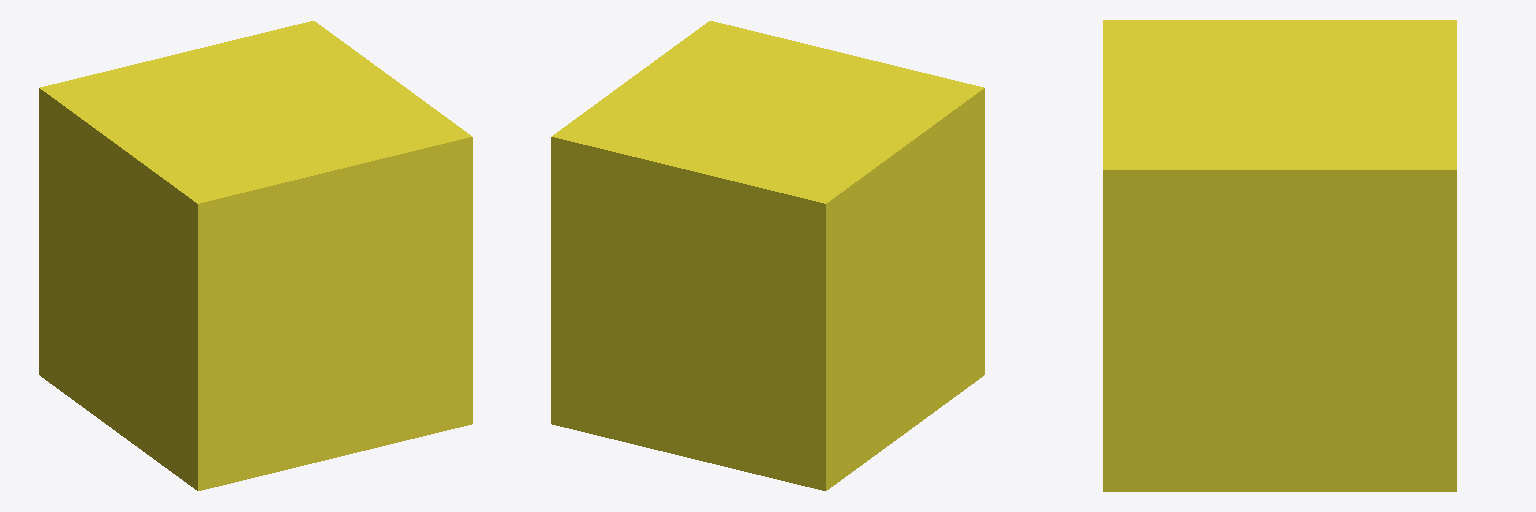
robot.urdf — liukuhihna_gazebo:
<?xml version="1.0" encoding="utf-8"?>
<!-- This URDF was automatically created by SolidWorks to URDF Exporter! Originally created by [author] ([email redacted]) 
     Commit Version: 1.5.1-0-g916b5db  Build Version: 1.5.7152.31018
     For more information, please see http://wiki.ros.org/sw_urdf_exporter -->
<robot name="liukuhihna_gazebo">

	<link name="world" />

	<joint name="fixed" type="fixed">
		<parent link="world"/>
		<child link="belt_visual"/>
		<origin xyz="0.0 0.0 0.0" rpy="0.0 0.0 0"/>
	</joint>
	

	<link name="belt_visual">
		<inertial>
			<origin xyz="1.1327E-16 -3.3286E-17 0.66019" rpy="0 0 0" />
			<mass value="71.953" />
			<inertia ixx="7.5972" ixy="-1.394E-14" ixz="1.9328E-17" iyy="0.99673" iyz="-9.2056E-18" izz="8.1168" />
		</inertial>
		<visual>
			<origin xyz="0 0 0" rpy="0 0 0" />
			<geometry>
				<mesh filename="package://demo_world/meshes/conveyor_belt.stl" scale="1 2 1"/>
			</geometry>
			<material name="white">
				<color rgba="1 1 1 1" />
			</material>
		</visual>
		<collision>
			<origin xyz="0.0 0.0 0" rpy="1.570796327 0.0 1.570796327"/>
			<geometry>
				<mesh filename="package://demo_world/meshes/conveyor_simple.stl" scale="1 2 1" />
			</geometry>
		</collision>
	</link>

	<gazebo reference="belt_visual">
		<material>Gazebo/Gray</material>
	</gazebo>


	<!-- <link name="test_cube">
		<visual>
			<origin xyz="0.0 0.0 0.37" rpy="0.0 0.0 0.0"/>
			<geometry>
				<box size="0.463 1.2 0.74"/>
			</geometry>
			<material name="purple">
				<color rgba="1 0 1 0.2" />
			</material>
		</visual>
	</link> -->

	<joint name="belt_joint" type="prismatic">
		<origin xyz="0.0 0.0 0.74" rpy="0.0 0.0 0.0"/>
		<parent link="belt_visual"/>
		<child link="belt_moving"/>
		<axis xyz="0 1 0"/>
		<limit lower="-1" upper="1" effort="1000" velocity="1000"/>
	</joint>

	<link name="belt_moving">
		<inertial>
			<origin xyz="0.0 0.0 0.0" rpy="0.0 0.0 0.0"/>
			<mass value="100"/>
			<inertia ixx="0.0" ixy="0.0" ixz="0.0" iyy="0.0" iyz="0.0" izz="0.0"/>
		</inertial>
		<!-- <visual>
			<origin xyz="0.0 0.0 0.0005" rpy="0.0 0.0 0.0"/>
			<geometry>
				<box size="0.425 2.4 0.001"/>
			</geometry>
			<material name="test">
				<color rgba="1 0 0 1" />
			</material>
		</visual> -->
		<collision>
			<origin xyz="0.0 0.0 0.0005" rpy="0.0 0.0 0.0"/>
			<geometry>
				<box size="0.425 2.4 0.001"/>
			</geometry>
		</collision>
	</link>

	<gazebo>
		<plugin name="conveyor_belt_plugin" filename="libROSConveyorBeltPlugin.so">
			<robot_namespace>/</robot_namespace>
			<link>belt_moving</link>
			<power>0</power>
			<max_velocity>1.0</max_velocity>
		</plugin>
	</gazebo>
	

	<joint name="camera_joint" type="fixed">
		<axis xyz="0 1 0" />
		<origin xyz="0.05 0 2.5" rpy="0 1.57 0"/>
		<parent link="belt_visual"/>
		<child link="camera_link"/>
	</joint>

	<!-- Camera -->
	<link name="camera_link">
		<collision>
			<origin xyz="0 0 0" rpy="0 0 0"/>
			<geometry>
				<box size="0.05 0.05 0.05"/>
			</geometry>
		</collision>

		<visual>
			<origin xyz="0 0 0" rpy="0 0 0"/>
			<geometry>
				<box size="0.05 0.05 0.05"/>
			</geometry>
			<material name="red"/>
		</visual>

		<inertial>
			<mass value="1e-5" />
			<origin xyz="0 0 0" rpy="0 0 0"/>
			<inertia ixx="1e-6" ixy="0" ixz="0" iyy="1e-6" iyz="0" izz="1e-6" />
		</inertial>
	</link>

	<!-- camera -->
	<gazebo reference="camera_link">
		<sensor type="camera" name="camera1">
		<update_rate>30.0</update_rate>
		<camera name="head">
			<horizontal_fov>1.3962634</horizontal_fov>
			<image>
			<width>800</width>
			<height>800</height>
			<format>R8G8B8</format>
			</image>
			<clip>
			<near>0.02</near>
			<far>300</far>
			</clip>
			<noise>
			<type>gaussian</type>
			<!-- Noise is sampled independently per pixel on each frame.
				That pixel's noise value is added to each of its color
				channels, which at that point lie in the range [0,1]. -->
			<mean>0.0</mean>
			<stddev>0.007</stddev>
			</noise>
		</camera>
		<plugin name="camera_controller" filename="libgazebo_ros_camera.so">
			<alwaysOn>true</alwaysOn>
			<updateRate>0.0</updateRate>
			<cameraName>/camera1</cameraName>
			<imageTopicName>image_raw</imageTopicName>
			<cameraInfoTopicName>camera_info</cameraInfoTopicName>
			<frameName>camera_link</frameName>
			<hackBaseline>0.07</hackBaseline>
			<distortionK1>0.0</distortionK1>
			<distortionK2>0.0</distortionK2>
			<distortionK3>0.0</distortionK3>
			<distortionT1>0.0</distortionT1>
			<distortionT2>0.0</distortionT2>
		</plugin>
		</sensor>
	</gazebo>
</robot>

--- Facts derived from the render (not from the file) ---
The picture shows the robot from 3 angles, left to right: view 1: azimuth 30°, elevation 25°; view 2: azimuth 150°, elevation 25°; view 3: azimuth 270°, elevation 25°; orthographic projection.
Model liukuhihna_gazebo with 4 links and 3 joints (1 prismatic, 2 fixed), rooted at world, posed all joints at 0.
Visible links, largest first — view 1: camera_link; view 2: camera_link; view 3: camera_link.
Boxes of the visible links, x1,y1,x2,y2 form: camera_link: (39, 21, 472, 490); camera_link: (551, 21, 984, 490); camera_link: (1103, 20, 1456, 491).
Size in the robot's own frame: 0.05 by 0.05 by 0.05 metres.
Meshes: 1 distinct files referenced, 0 mesh visuals loaded (none loaded); not drawn: 1 (reference not matched to a file when rendering).
